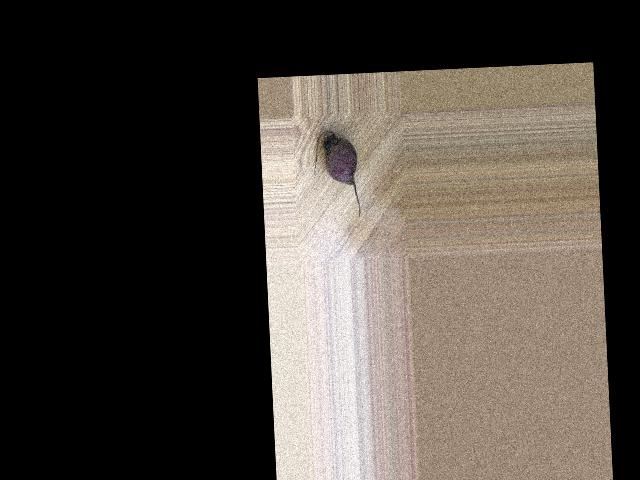beet: (312, 129, 361, 220)
